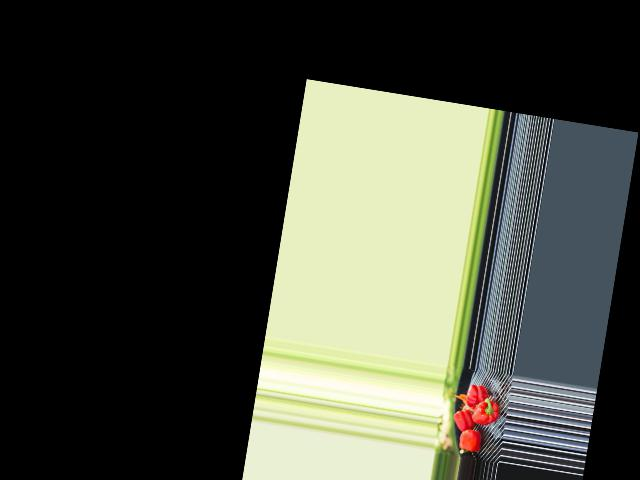bell_pepper: (463, 382, 488, 411)
